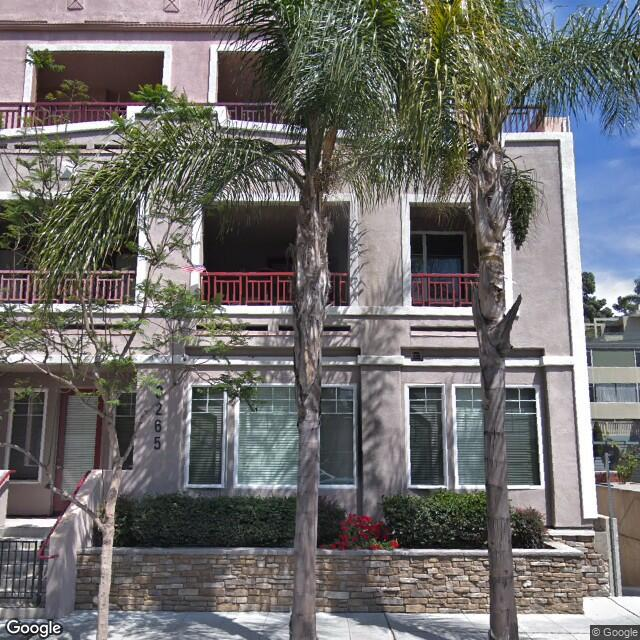window: (240, 380, 299, 489), (505, 376, 548, 492), (319, 381, 361, 487), (402, 384, 444, 489), (190, 384, 228, 490), (7, 387, 47, 482)
